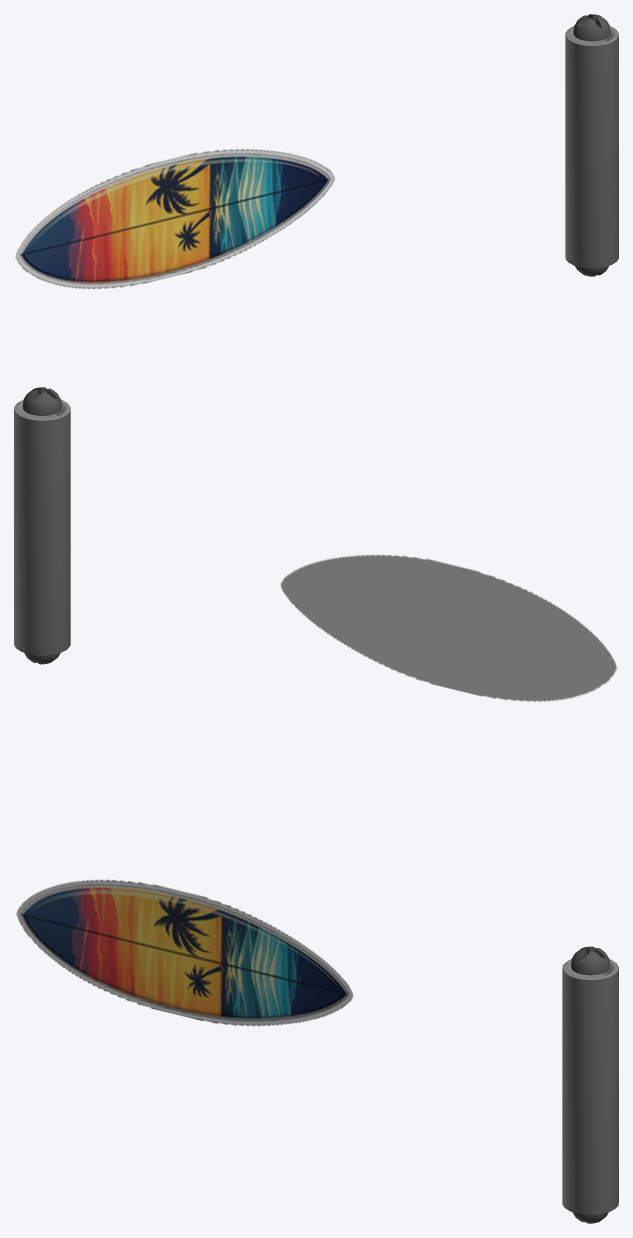
The model's file is sticker_roller_4.glb.
3 views of the same model, one above another, from view 1: azimuth 30°, elevation 25°; view 2: azimuth 150°, elevation 25°; view 3: azimuth 330°, elevation 25° (orthographic). The views are drawn at different scales.
Parts seen in each view (by area): view 1: Beta sticker logo front.001, Roller 2, polySurface1.001; view 2: Beta sticker logo back.001, Roller 2, polySurface1.001; view 3: Beta sticker logo front.001, Roller 2, polySurface1.001.
Boxes of the visible parts, x1,y1,x2,y2 form: Beta sticker logo front.001: (15, 149, 334, 288); Roller 2: (565, 26, 618, 268); polySurface1.001: (573, 14, 610, 41); Beta sticker logo back.001: (280, 554, 617, 701); Roller 2: (14, 400, 70, 655); polySurface1.001: (22, 387, 61, 415); Beta sticker logo front.001: (16, 879, 352, 1026); Roller 2: (562, 959, 618, 1214); polySurface1.001: (571, 946, 610, 975).
Bounding box in the file's own units: 22.34 × 9.39 × 1.97.
5 materials, 3 textured.
